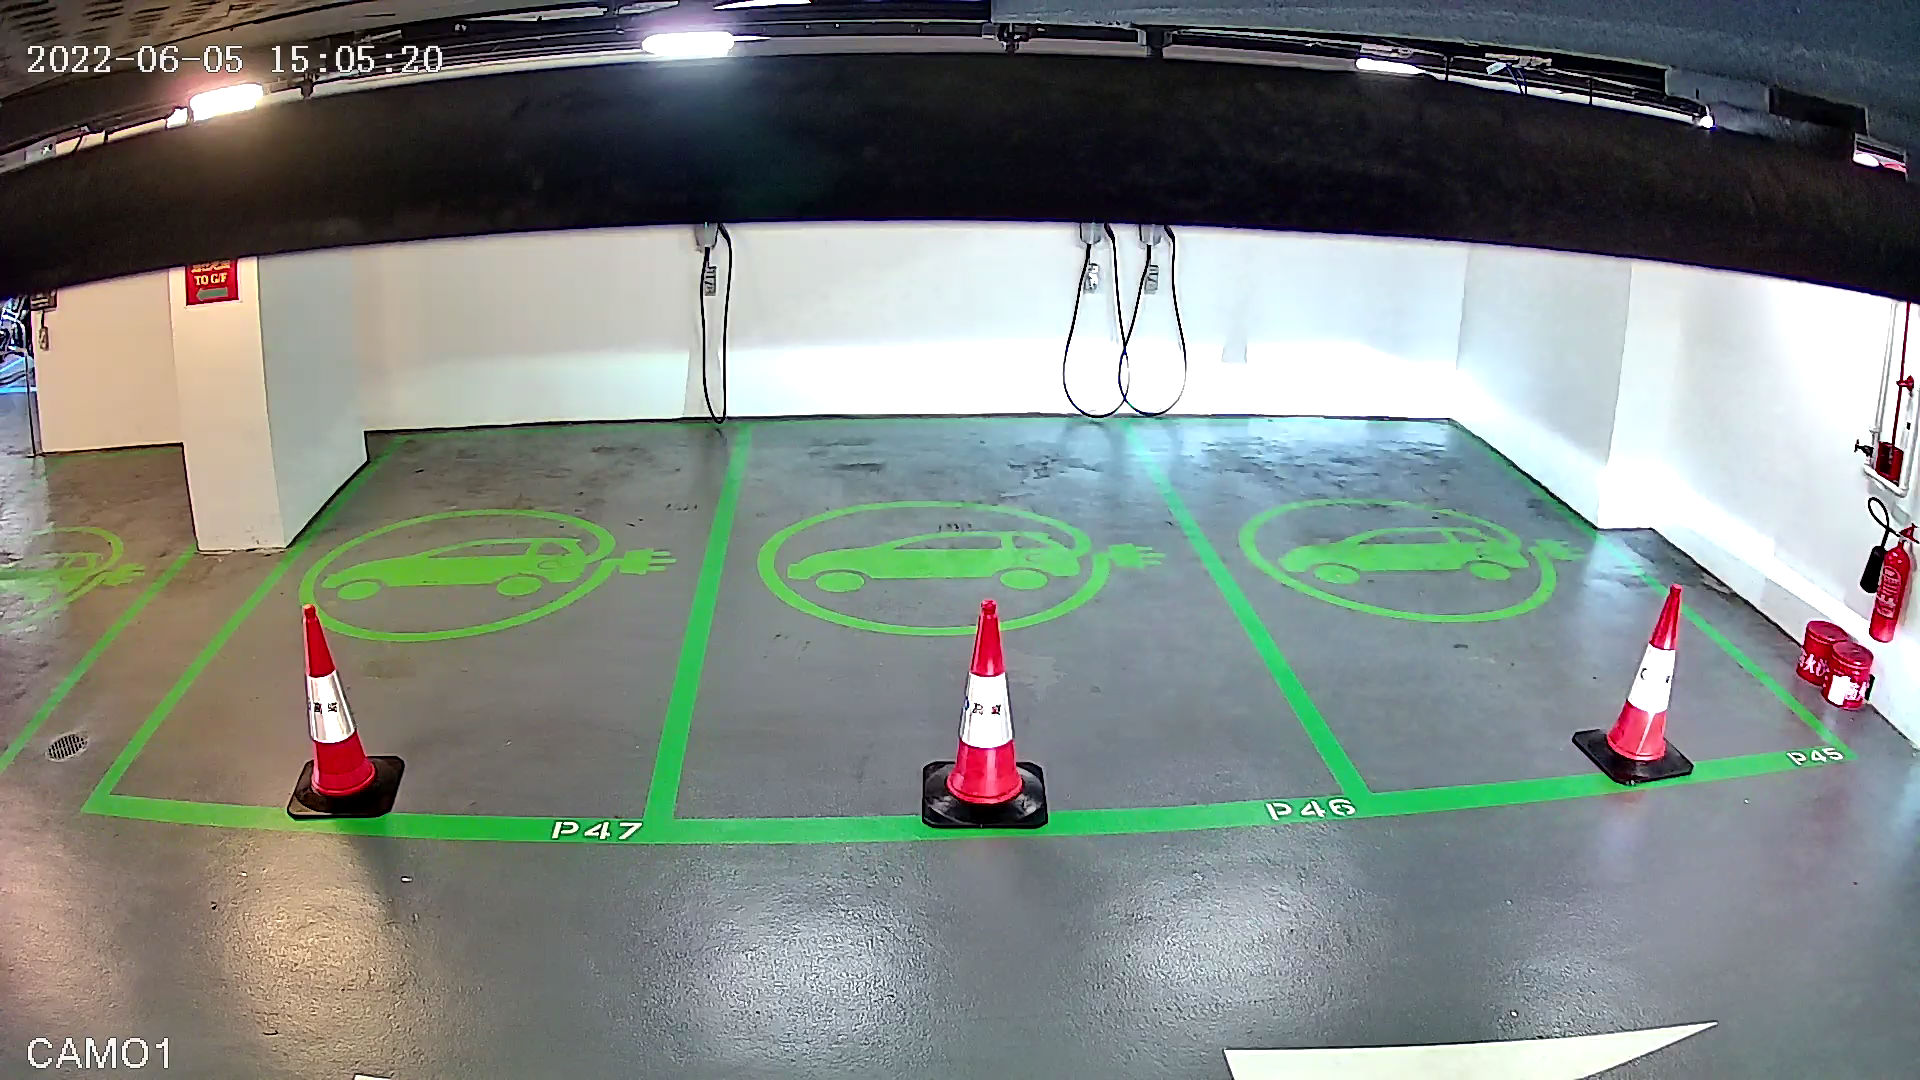space: (611, 357, 1395, 887), (1093, 357, 1884, 843), (70, 388, 764, 899)
